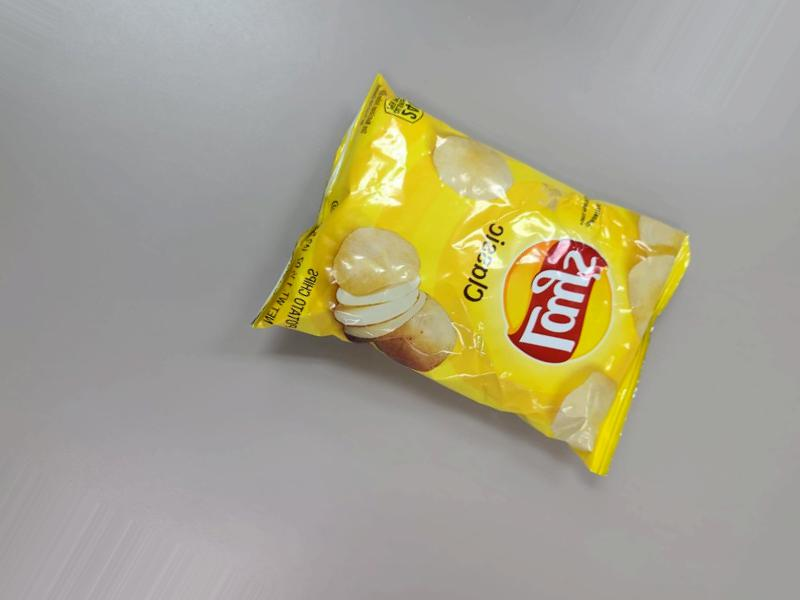lays: (279, 74, 694, 482)
